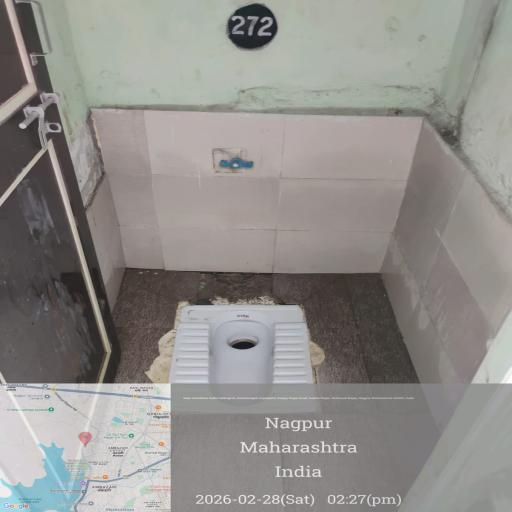clean_floor: (82, 29, 422, 188)
clean_indian: (166, 288, 326, 434)
partial_dirty_floor: (107, 265, 512, 511)
